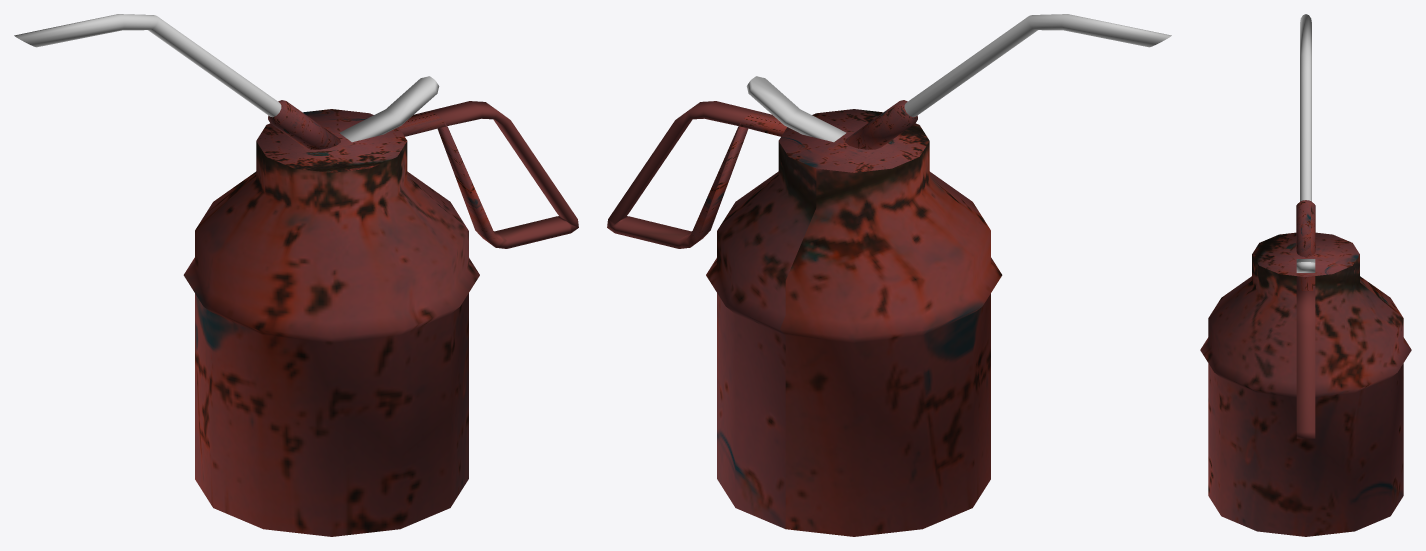
File: Oil Can.fbx
3 renders of one model, left to right at view 1: azimuth 30°, elevation 25°; view 2: azimuth 150°, elevation 25°; view 3: azimuth 270°, elevation 25°, orthographic. The views are drawn at different scales.
Parts seen in each view (by area): view 1: Oil Can Large, Oil Can Large.002, Oil Can Large.001; view 2: Oil Can Large, Oil Can Large.002, Oil Can Large.001; view 3: Oil Can Large, Oil Can Large.002, Oil Can Large.001.
Boxes of the visible parts, x1,y1,x2,y2 form: Oil Can Large: (183,100,578,536); Oil Can Large.002: (14,14,281,117); Oil Can Large.001: (339,76,439,142); Oil Can Large: (607,100,1002,536); Oil Can Large.002: (904,14,1171,117); Oil Can Large.001: (746,76,846,142); Oil Can Large: (1200,200,1411,536); Oil Can Large.002: (1300,14,1311,201); Oil Can Large.001: (1296,259,1315,272).
Size of the model in its own units: 93 by 82.86 by 42.83.
